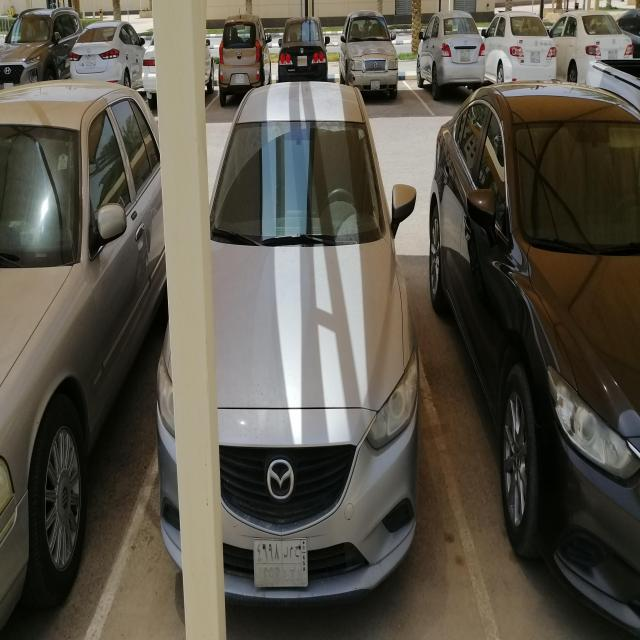license_plate: (252, 535, 310, 590), (297, 55, 307, 67), (460, 50, 470, 61), (530, 52, 540, 63), (608, 50, 618, 60), (86, 56, 95, 67), (371, 80, 380, 90), (236, 74, 244, 84), (4, 83, 14, 90)
